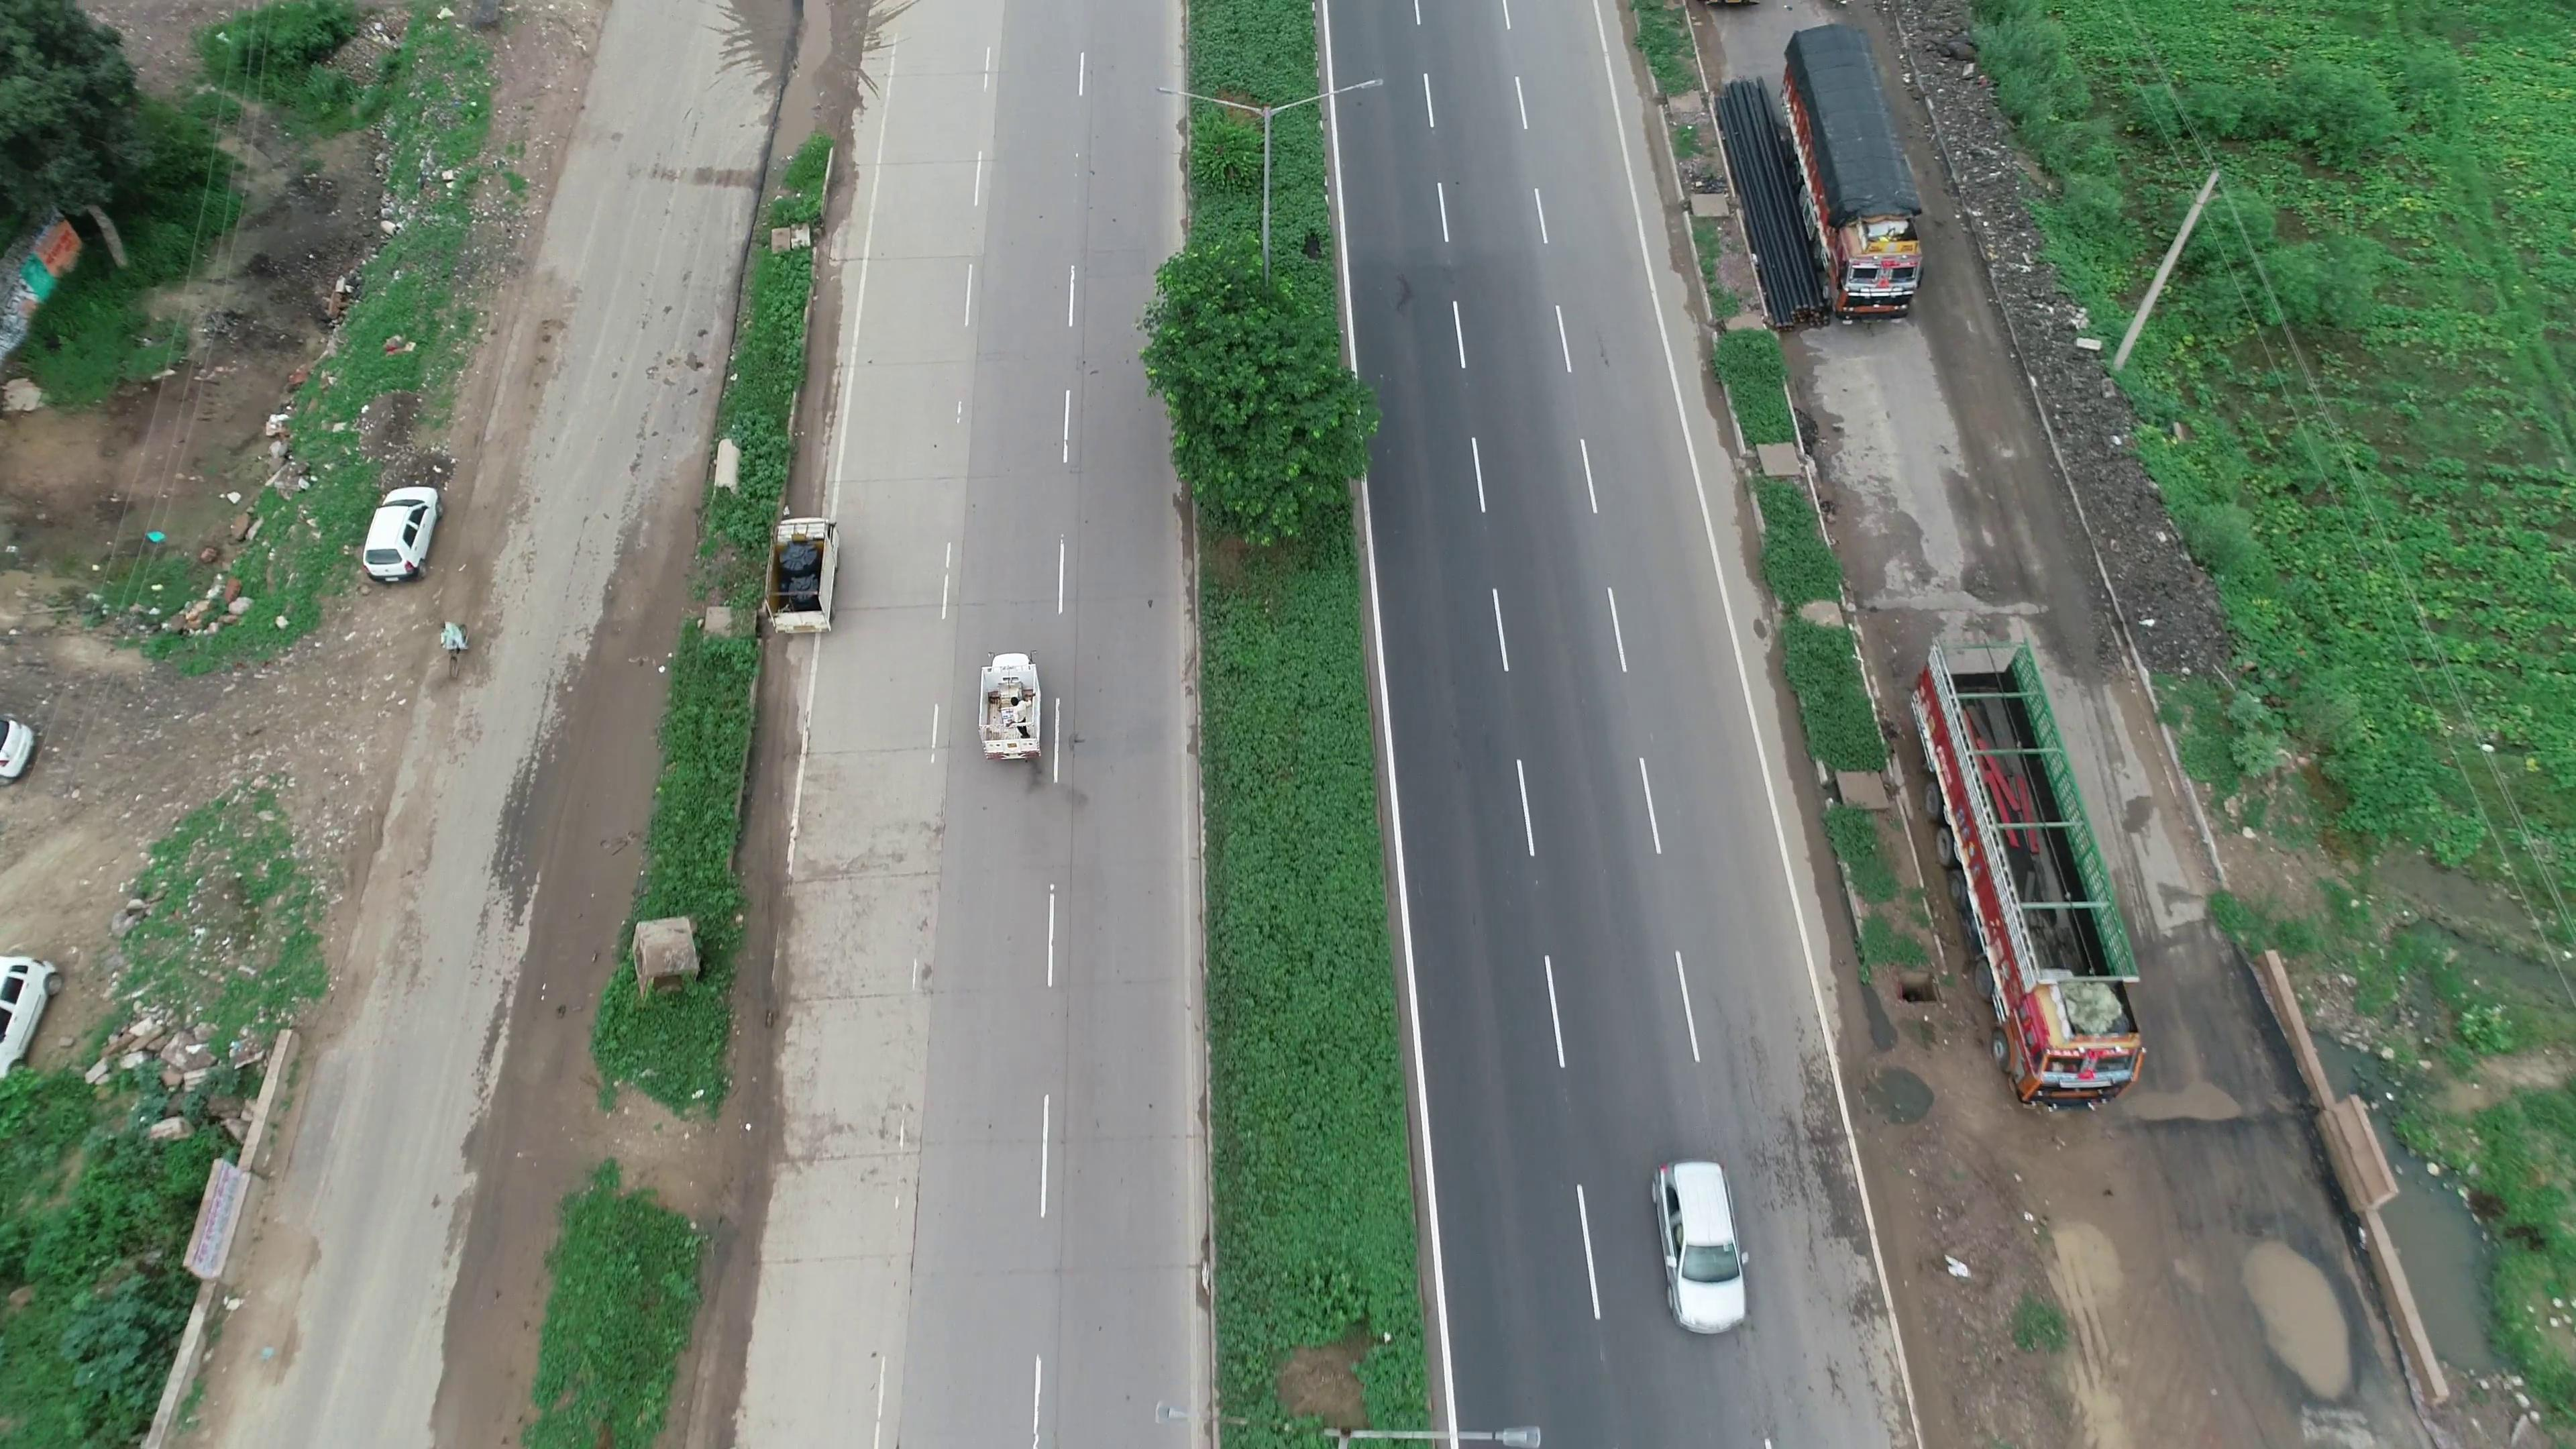Ravelling: (1750, 1021, 1849, 1251)
